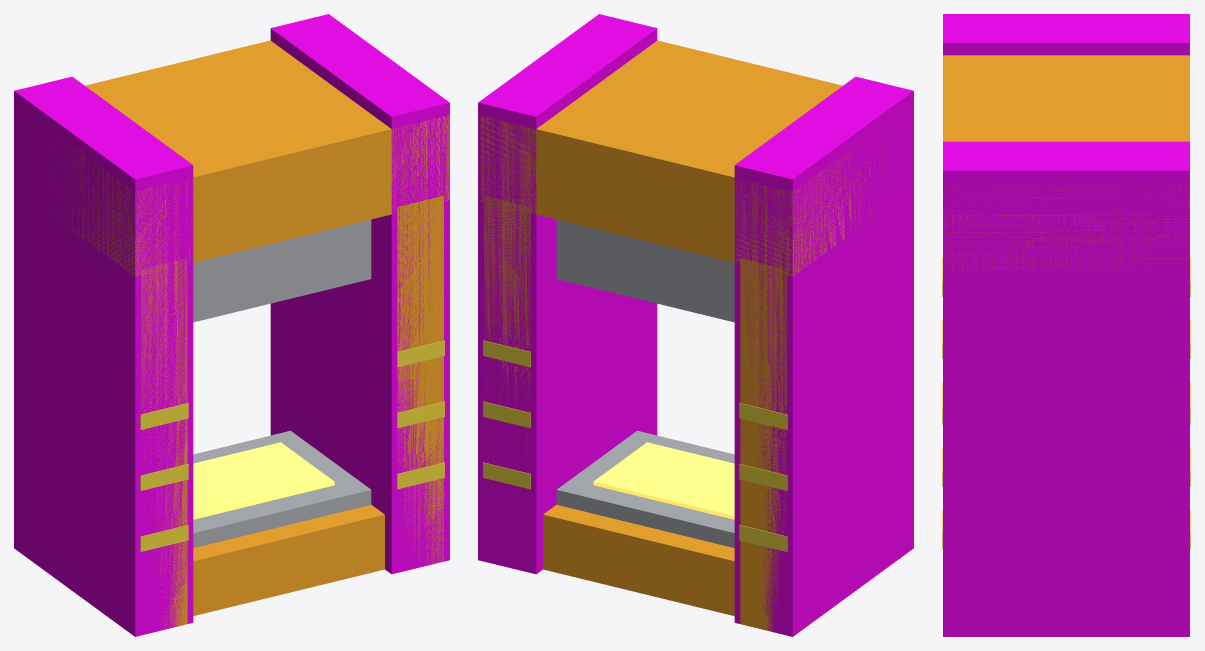
Rendered from press.glb.
3 views of the same model, side by side, from view 1: azimuth 30°, elevation 25°; view 2: azimuth 150°, elevation 25°; view 3: azimuth 270°, elevation 25° (orthographic).
Parts seen in each view (by area): view 1: COL_Press_R, Press_Frame, COL_Press_L, Ram, Press_Bed, Sheet, Press_Stripes; view 2: Press_Frame, COL_Press_R, COL_Press_L, Ram, Press_Bed, Sheet, Press_Stripes; view 3: COL_Press_L, Press_Frame, COL_Press_R, Press_Stripes.
Boxes of the visible parts, box(x1,y1,x2,y2) form: COL_Press_R: box(14, 76, 193, 636); Press_Frame: box(49, 40, 449, 629); COL_Press_L: box(270, 14, 449, 574); Ram: box(193, 219, 371, 322); Press_Bed: box(193, 430, 371, 547); Sheet: box(193, 442, 334, 519); Press_Stripes: box(140, 340, 444, 551); Press_Frame: box(478, 40, 888, 631); COL_Press_R: box(734, 76, 913, 636); COL_Press_L: box(478, 14, 657, 574); Ram: box(556, 219, 734, 322); Press_Bed: box(556, 430, 734, 547); Sheet: box(593, 442, 734, 519); Press_Stripes: box(483, 340, 787, 551); COL_Press_L: box(943, 141, 1189, 636); Press_Frame: box(943, 55, 1189, 269); COL_Press_R: box(943, 14, 1189, 55); Press_Stripes: box(942, 257, 1190, 548).
Bounding box in the file's own units: 5.4 × 7.5 × 3.62.
